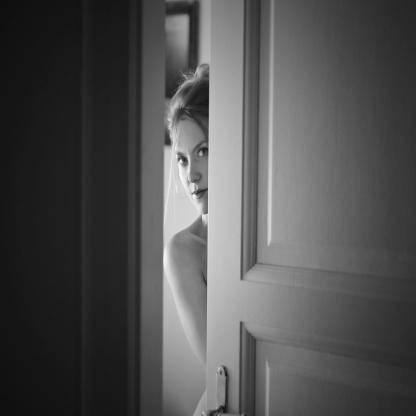Eye: (196, 147, 208, 158), (178, 155, 189, 167)
Mouth: (191, 187, 208, 199)
Nose: (188, 157, 201, 183)
